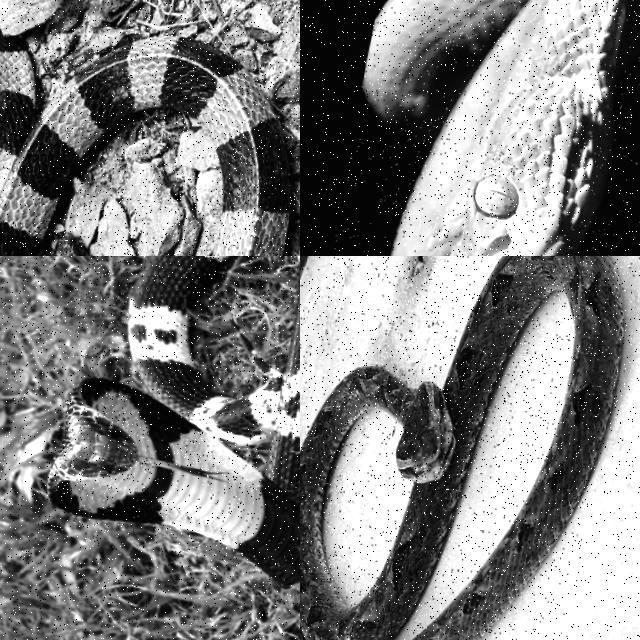Bungarus fasciatus: (0, 32, 290, 255)
Calloselasma rhodostoma: (300, 256, 623, 639)
Naja siamensis: (48, 256, 299, 587)
Trimeresurus macrops: (367, 0, 639, 255)
